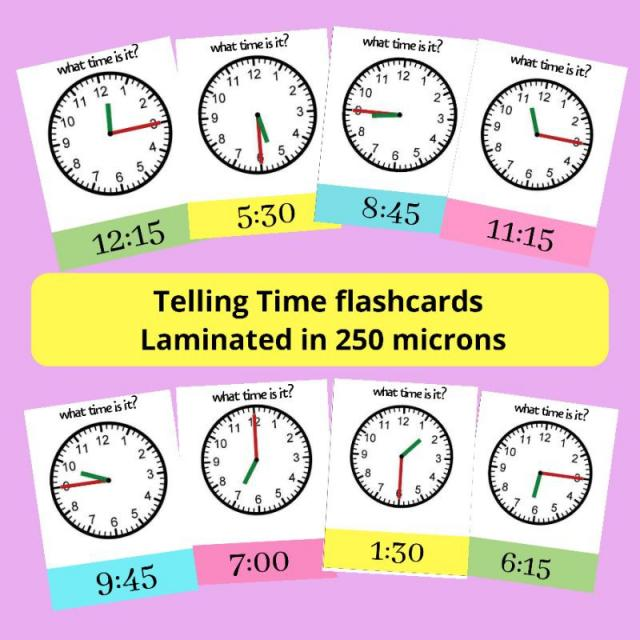clock: (0, 0, 638, 634)
